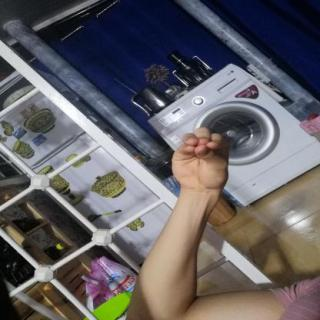HA: (161, 121, 241, 198)
